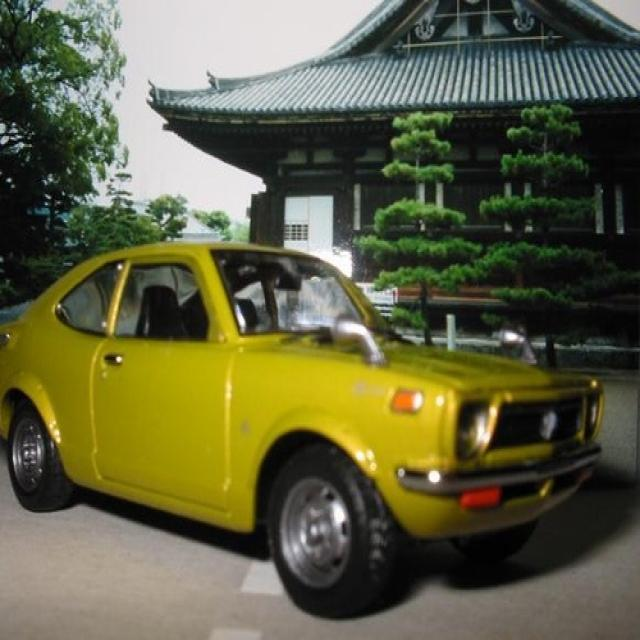car: (0, 236, 603, 624)
